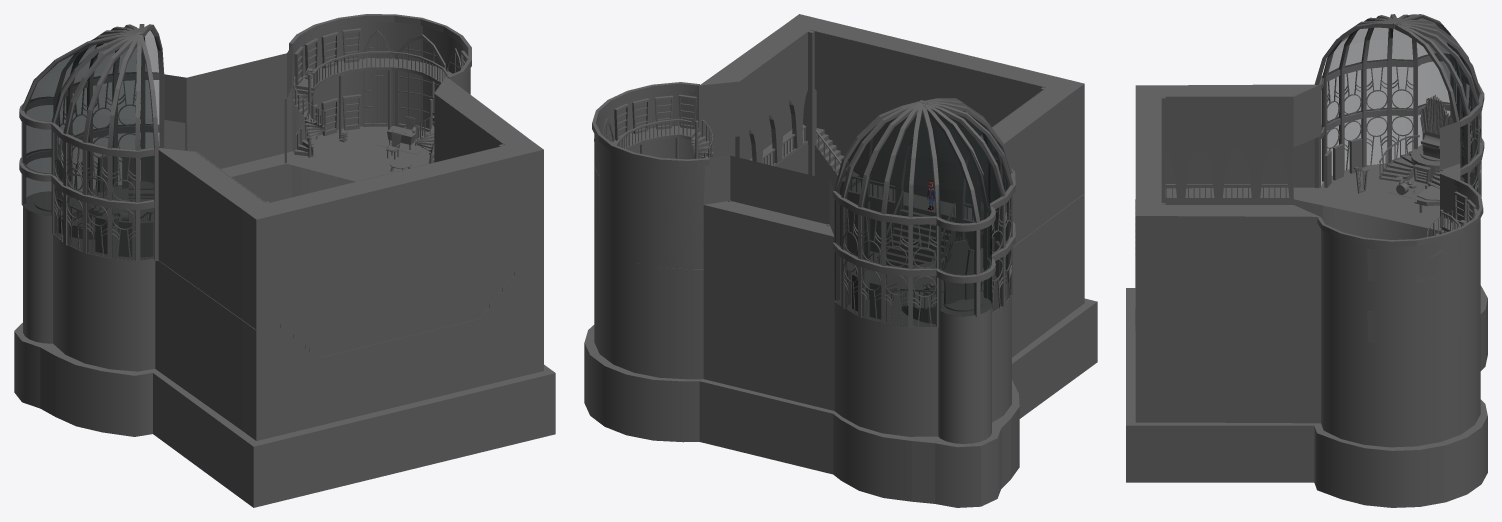
The model's file is WillowcrestHouse.FBX.
3 views of the same model, side by side, from view 1: azimuth 30°, elevation 25°; view 2: azimuth 150°, elevation 25°; view 3: azimuth 270°, elevation 25° (orthographic). The views are drawn at different scales.
Visible parts, largest first — view 1: House_REF; view 2: House_REF; view 3: House_REF.
Part boxes in pixels (bbox=[...]): House_REF: bbox=[14, 14, 555, 507]; House_REF: bbox=[584, 14, 1097, 507]; House_REF: bbox=[1126, 14, 1487, 507].
Size of the model in its own units: 1.39 by 1.14 by 1.11.
